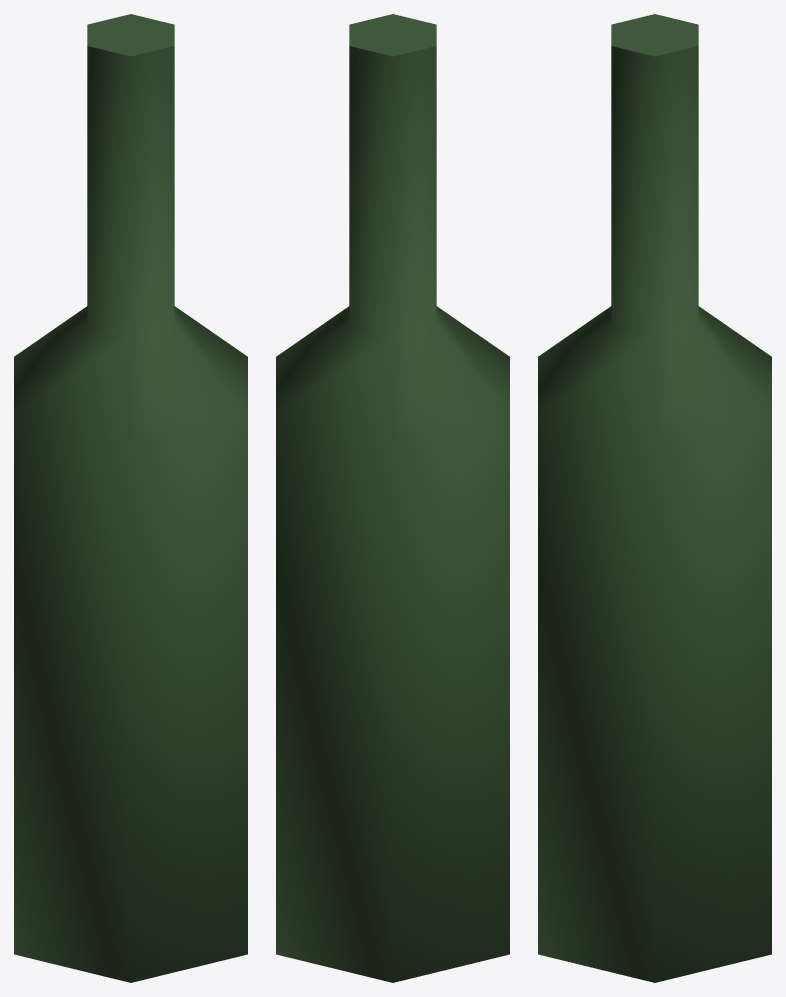
Rendered from Bottle.FBX.
3 views of the same model, side by side, from view 1: azimuth 30°, elevation 25°; view 2: azimuth 150°, elevation 25°; view 3: azimuth 270°, elevation 25° (orthographic).
Parts seen in each view (by area): view 1: Bottle; view 2: Bottle; view 3: Bottle.
Part boxes in pixels (left/top/right/bottom): Bottle: left=14, top=14, right=247, bottom=982; Bottle: left=276, top=14, right=509, bottom=982; Bottle: left=538, top=14, right=771, bottom=982.
Size of the model in its own units: 4.16 by 15.13 by 3.6.
Materials: 1 (1 with a texture image).
